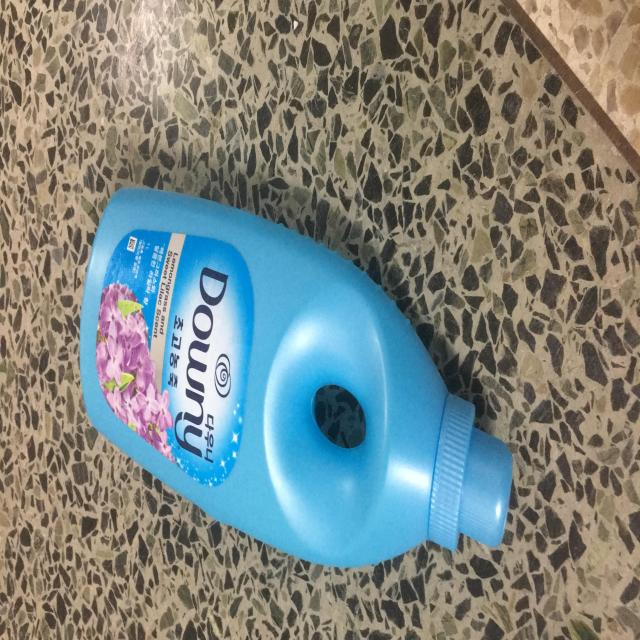bottle: (77, 137, 515, 601)
